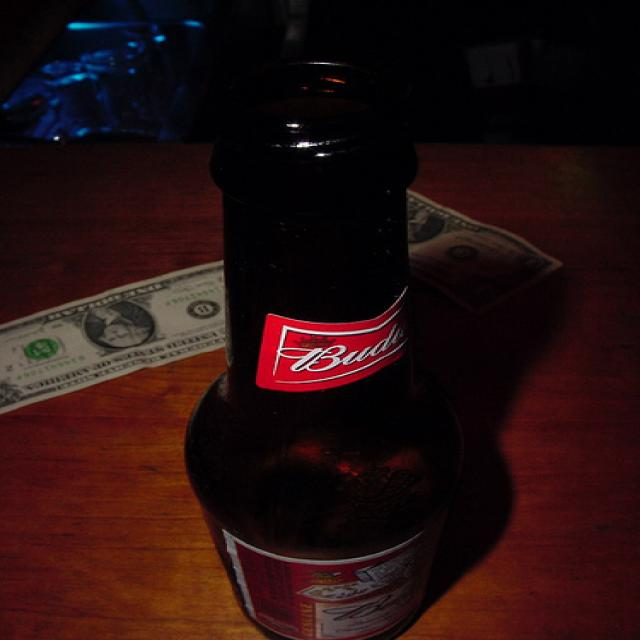Bottle: (199, 47, 518, 640)
